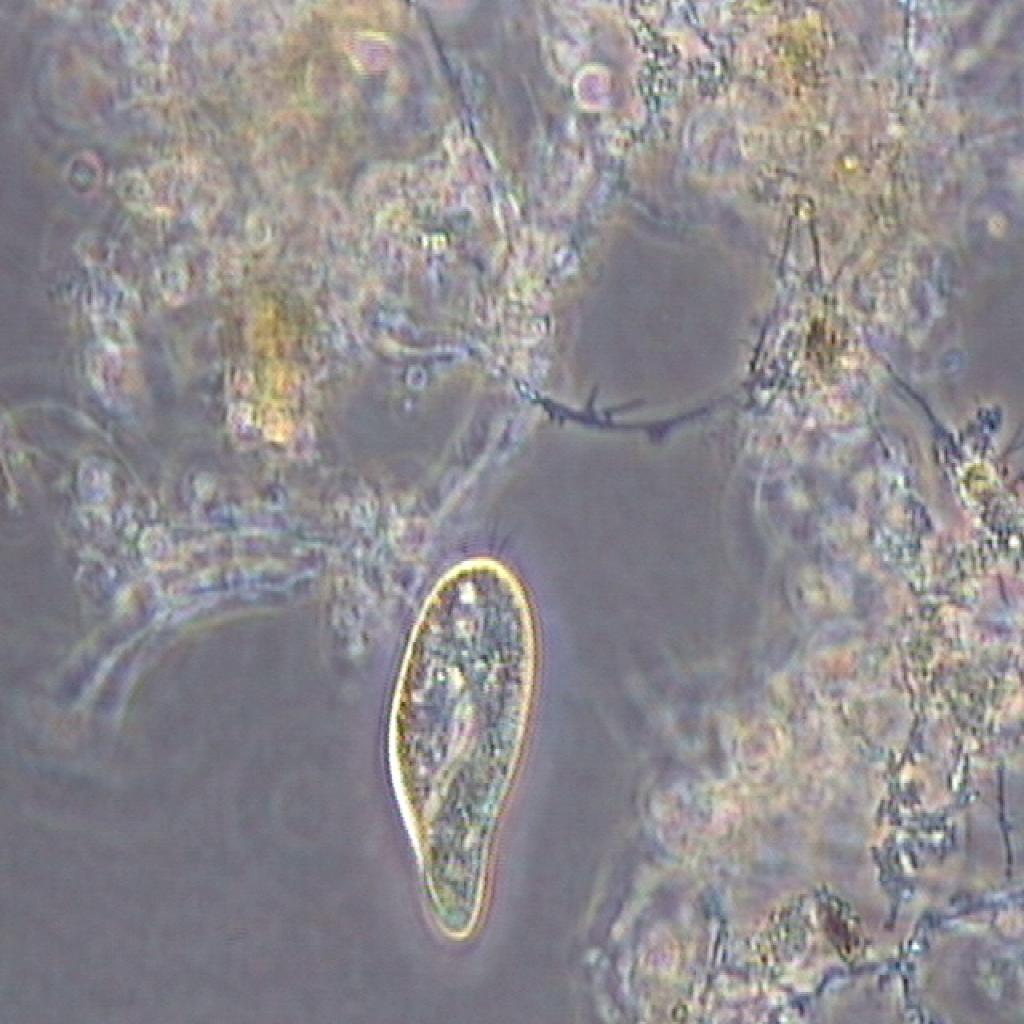Paramecium: (332, 531, 559, 964)
